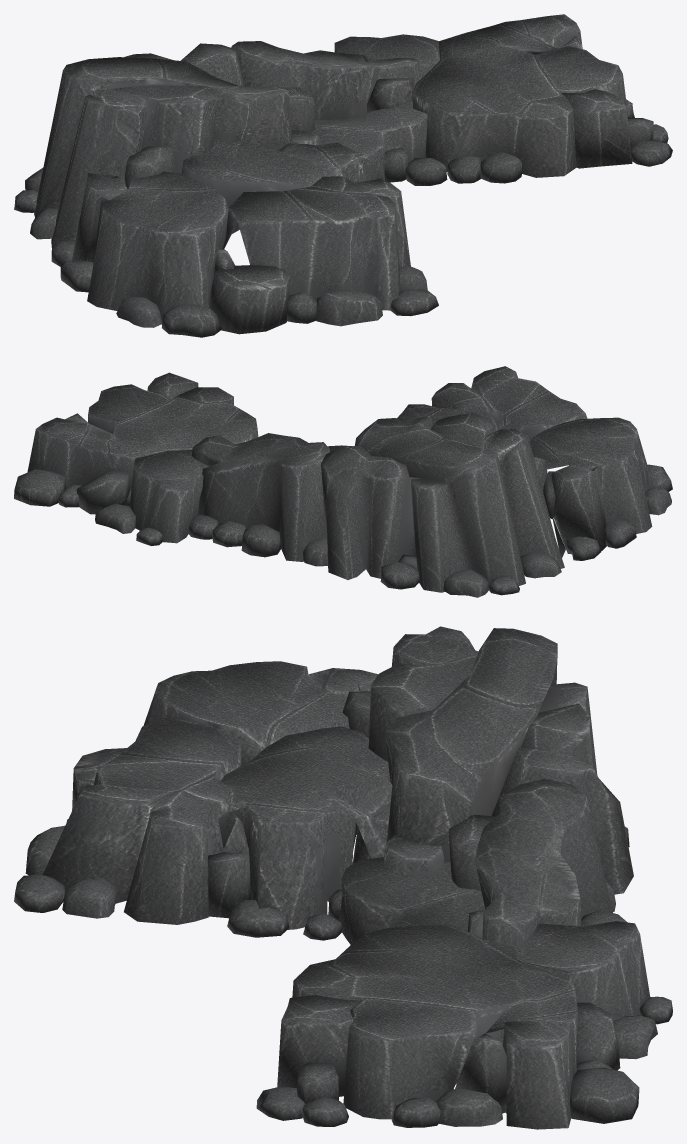
File: rock_broken_low_v1.glb
The picture shows the model from 3 angles, top to bottom: view 1: azimuth 30°, elevation 25°; view 2: azimuth 150°, elevation 25°; view 3: azimuth 270°, elevation 25°; orthographic projection. The views are drawn at different scales.
Bounding box in the file's own units: 1 × 0.2217 × 0.7406.
Materials: 1 (1 with a texture image).
